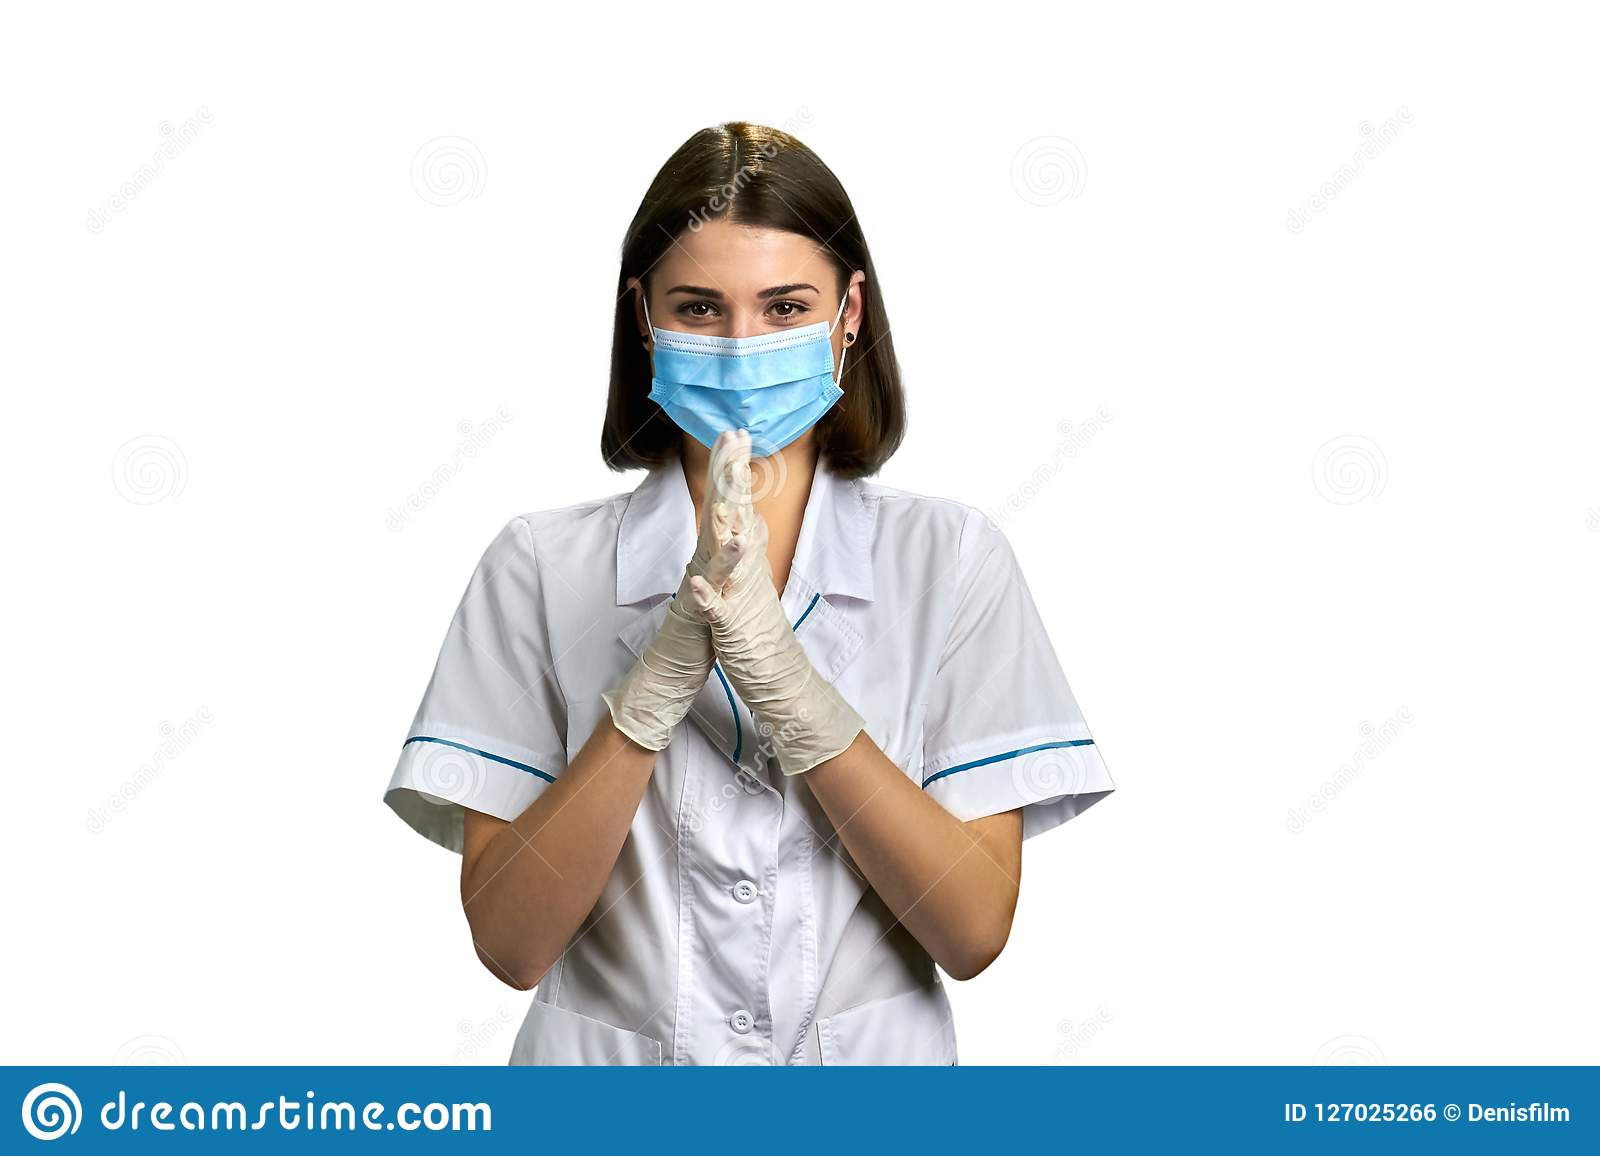mask: (625, 318, 860, 464)
